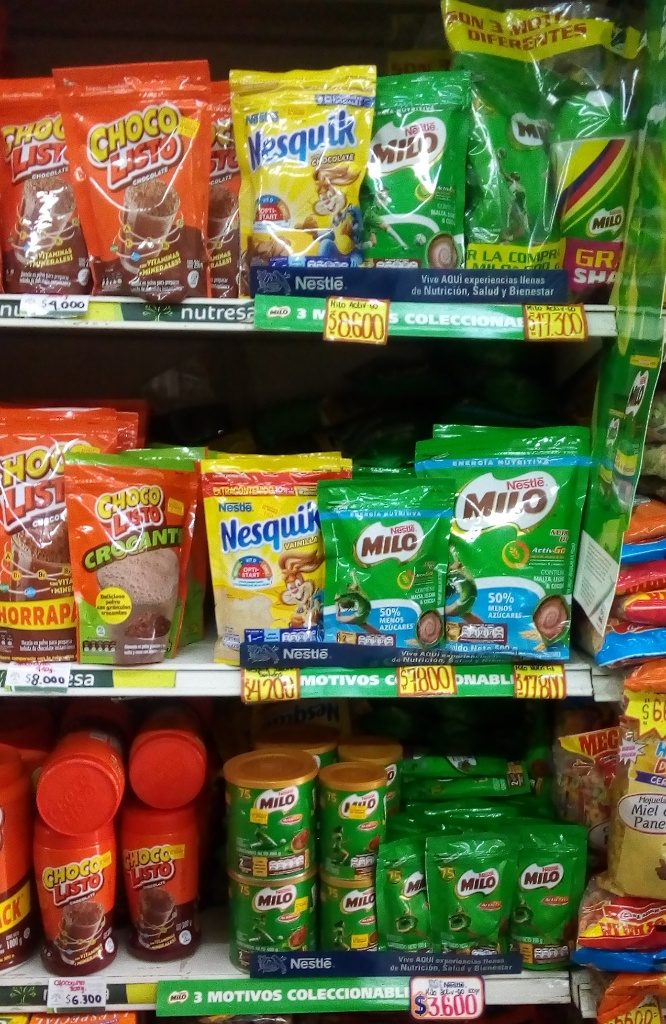COL0170102DYP25000: (71, 451, 225, 671)
COL0170103DYP20000: (64, 60, 224, 308)
COL0170103DYP40000: (4, 406, 139, 657)
COL0170103TRR30000: (117, 819, 209, 971)
COL0170203DYP10000: (431, 840, 517, 963)
COL0170203DYP25000: (371, 64, 467, 278)
COL0170203DYP50000: (461, 58, 577, 262)
COL0170203LAT20000: (324, 768, 395, 880)
COL0170203LAT40000: (219, 874, 320, 971)
COL0170205DYP20000: (333, 474, 456, 656)
COL0170205DYP50000: (420, 435, 587, 658)
COL0170303DYP20000: (231, 64, 376, 286)
